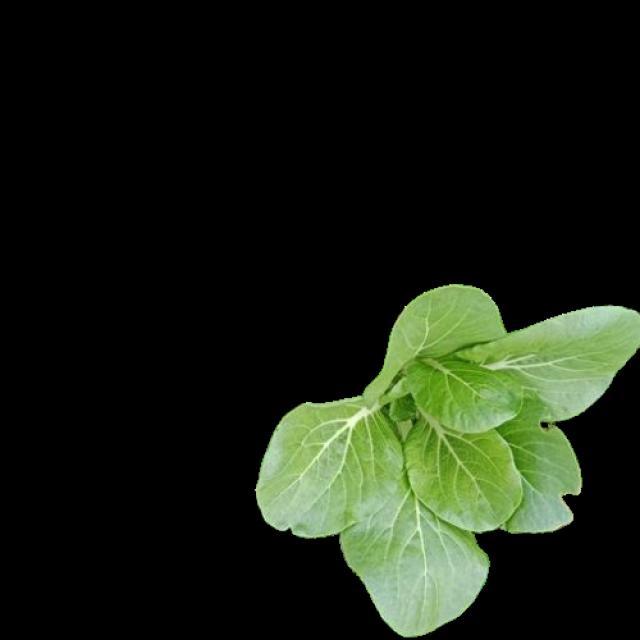not-mature: (257, 286, 640, 636)
unhealthy: (477, 394, 580, 532)
